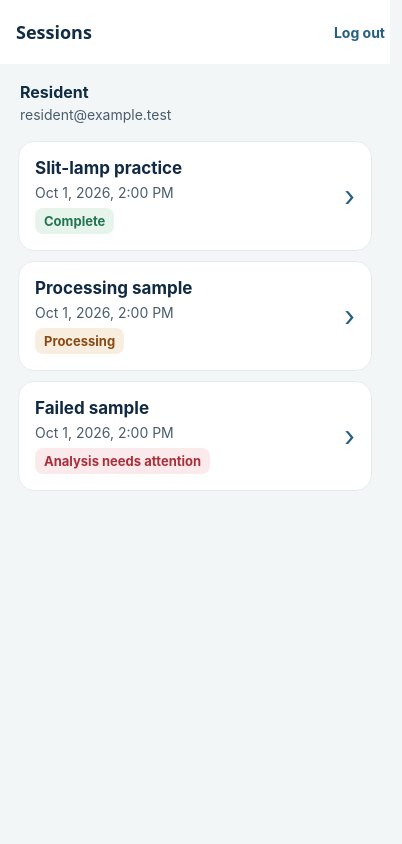
it: clears invalid authentication and returns to Login on a review request returning 401
The image size is (402, 844).
Click the text "Slit-lamp practice": (109, 168) top-left (35, 158), bottom-right (182, 178)
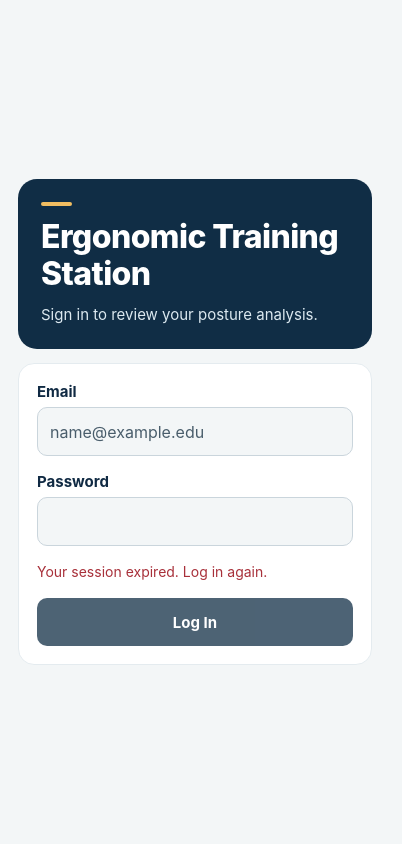
Check: the text "Your session expired. Log in again." is shown, box top-left (37, 563), bottom-right (267, 580)
